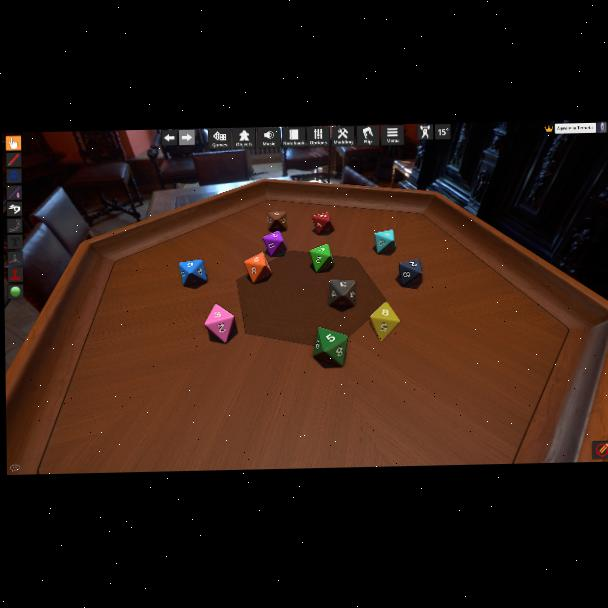d8: (313, 326, 348, 366), (204, 304, 234, 345), (369, 302, 399, 341), (244, 253, 272, 284), (328, 279, 357, 308), (179, 259, 207, 289), (398, 258, 422, 286), (263, 230, 287, 258), (311, 244, 335, 272), (313, 211, 334, 235), (375, 229, 395, 254), (268, 210, 287, 232)
